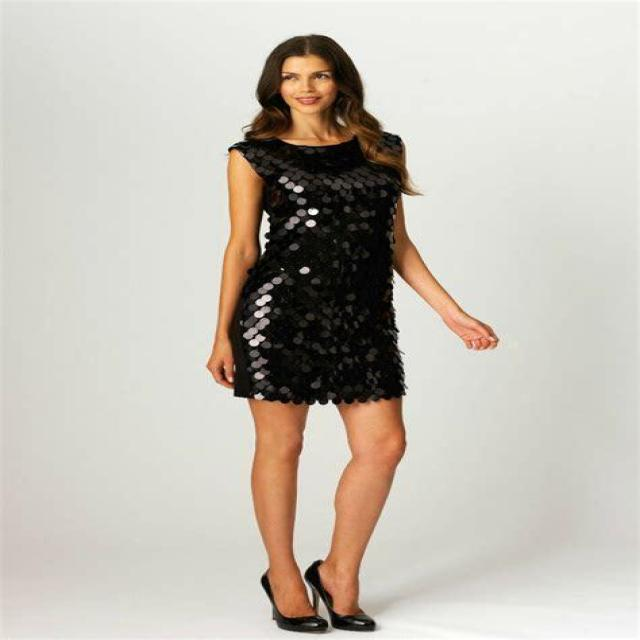dress: (230, 131, 408, 402)
